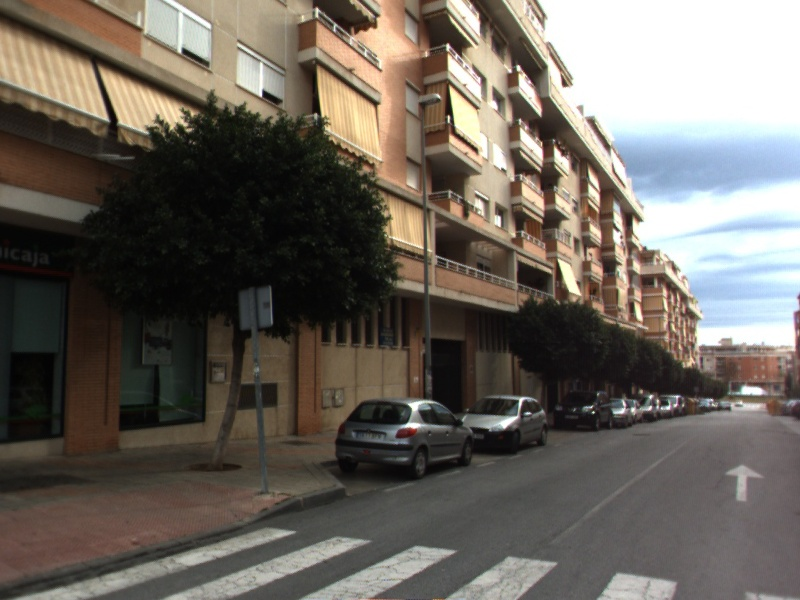STRAIGHT: (723, 462, 767, 503)
